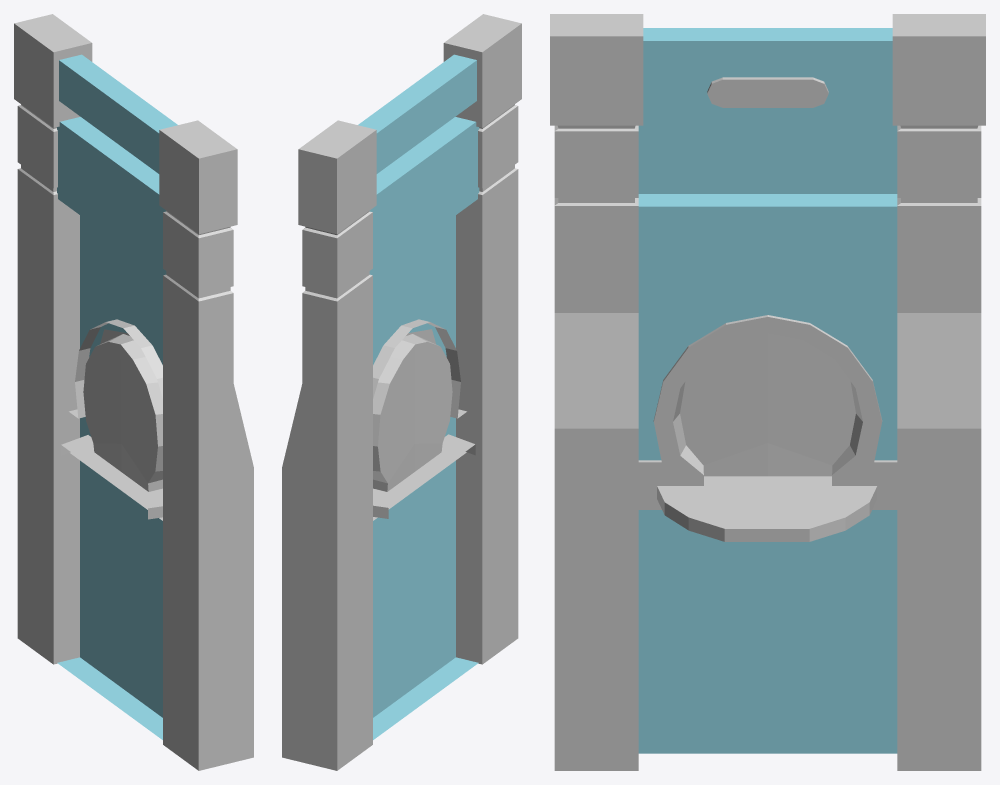
File: MurCote8.fbx
The picture shows the model from 3 angles, left to right: view 1: azimuth 30°, elevation 25°; view 2: azimuth 150°, elevation 25°; view 3: azimuth 270°, elevation 25°; orthographic projection. The views are drawn at different scales.
Visible parts, largest first — view 1: Cube.127, Cube.125, Cylinder.003, Cylinder.004; view 2: Cube.127, Cube.125, Cylinder.003, Cylinder.004; view 3: Cube.125, Cube.127, Cylinder.003, Cylinder.004, Cylinder.002.
Boxes of the visible parts, x1,y1,x2,y2 form: Cube.127: [14, 14, 253, 770]; Cube.125: [57, 54, 177, 739]; Cylinder.003: [69, 319, 162, 520]; Cylinder.004: [61, 435, 162, 519]; Cube.127: [282, 14, 521, 770]; Cube.125: [358, 54, 479, 739]; Cylinder.003: [373, 319, 466, 520]; Cylinder.004: [373, 434, 475, 518]; Cube.125: [638, 28, 897, 753]; Cube.127: [550, 14, 985, 770]; Cylinder.003: [638, 315, 897, 509]; Cylinder.004: [657, 476, 877, 541]; Cylinder.002: [707, 77, 828, 107].
Size of the model in its own units: 317 by 1717 by 936.
